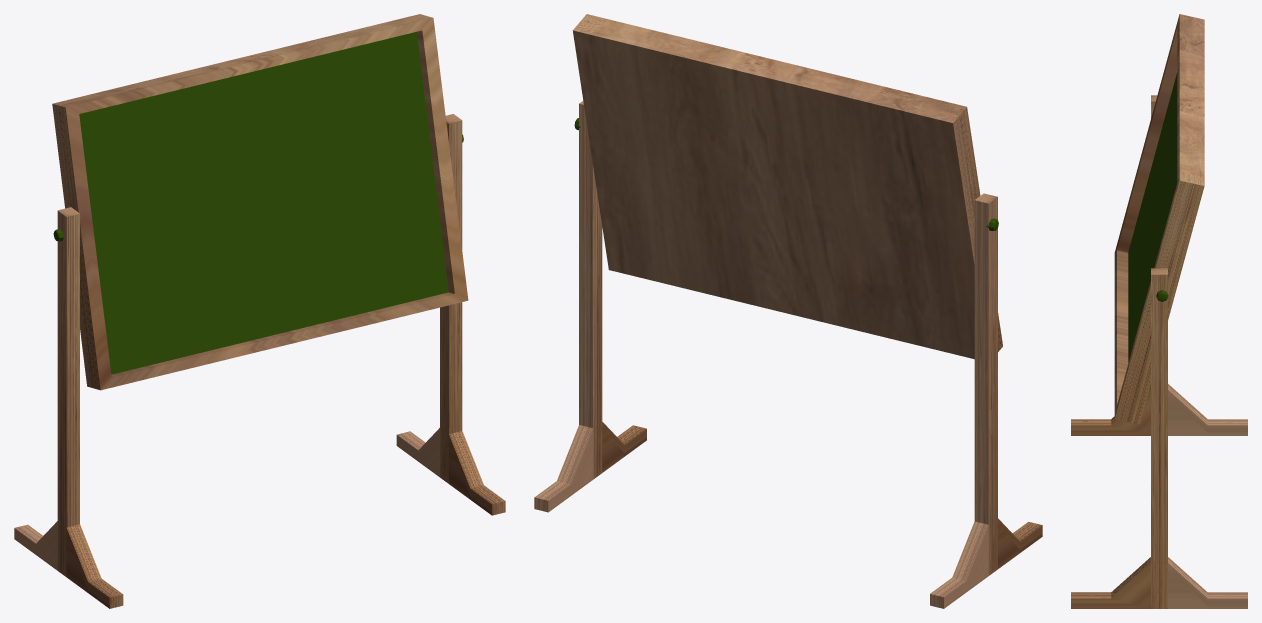
Rendered from bord.fbx.
3 views of the same model, side by side, from view 1: azimuth 30°, elevation 25°; view 2: azimuth 150°, elevation 25°; view 3: azimuth 270°, elevation 25° (orthographic). The views are drawn at different scales.
Visible parts, largest first — view 1: board, stand2, stand_1; view 2: board, stand2, stand_1; view 3: board, stand_1, stand2.
Part boxes in pixels (bbox=[...]): board: bbox=[52, 14, 468, 390]; stand2: bbox=[14, 207, 123, 608]; stand_1: bbox=[396, 114, 505, 515]; board: bbox=[572, 14, 1002, 359]; stand2: bbox=[930, 193, 1042, 608]; stand_1: bbox=[534, 101, 646, 512]; board: bbox=[1114, 14, 1204, 424]; stand_1: bbox=[1071, 268, 1247, 608]; stand2: bbox=[1071, 95, 1247, 435].
Size of the model in its own units: 374 by 400 by 152.
Materials: 2 (1 with a texture image).
